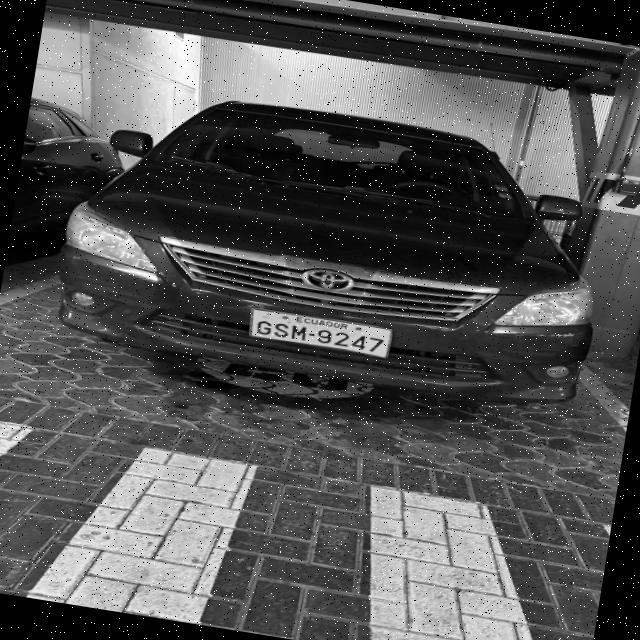Placa: (250, 310, 392, 358)
